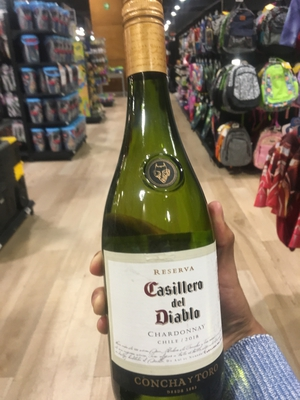casillero del diablo chardonnay: (89, 6, 228, 400)
